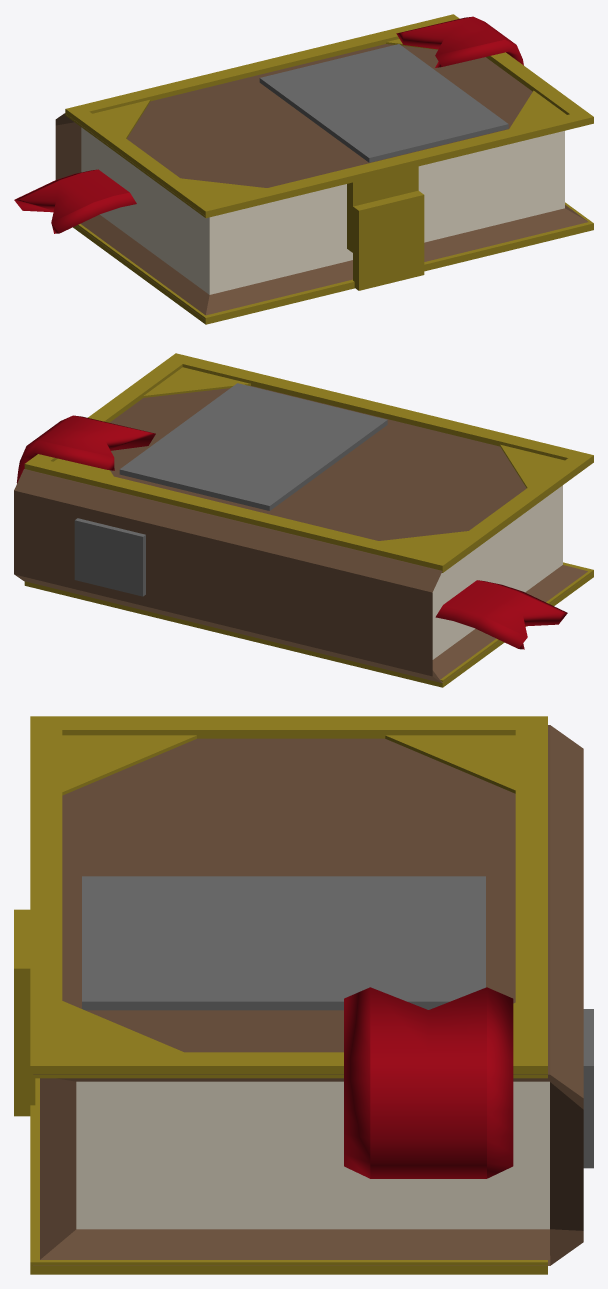
File: Spellbook_3.fbx
3 views of the same model, one above another, from view 1: azimuth 30°, elevation 25°; view 2: azimuth 150°, elevation 25°; view 3: azimuth 270°, elevation 25° (orthographic). The views are drawn at different scales.
Parts seen in each view (by area): view 1: Book_v1.002, Book_v3; view 2: Book_v1.002, Book_v3; view 3: Book_v1.002, Book_v3.
Part boxes in pixels (left/top/right/bottom): Book_v1.002: left=55, top=44, right=587, bottom=319; Book_v3: left=14, top=14, right=593, bottom=324; Book_v1.002: left=14, top=383, right=592, bottom=682; Book_v3: left=16, top=353, right=593, bottom=687; Book_v1.002: left=33, top=725, right=593, bottom=1265; Book_v3: left=14, top=716, right=547, bottom=1274.
Bounding box in the file's own units: 112 × 27.85 × 64.41.
